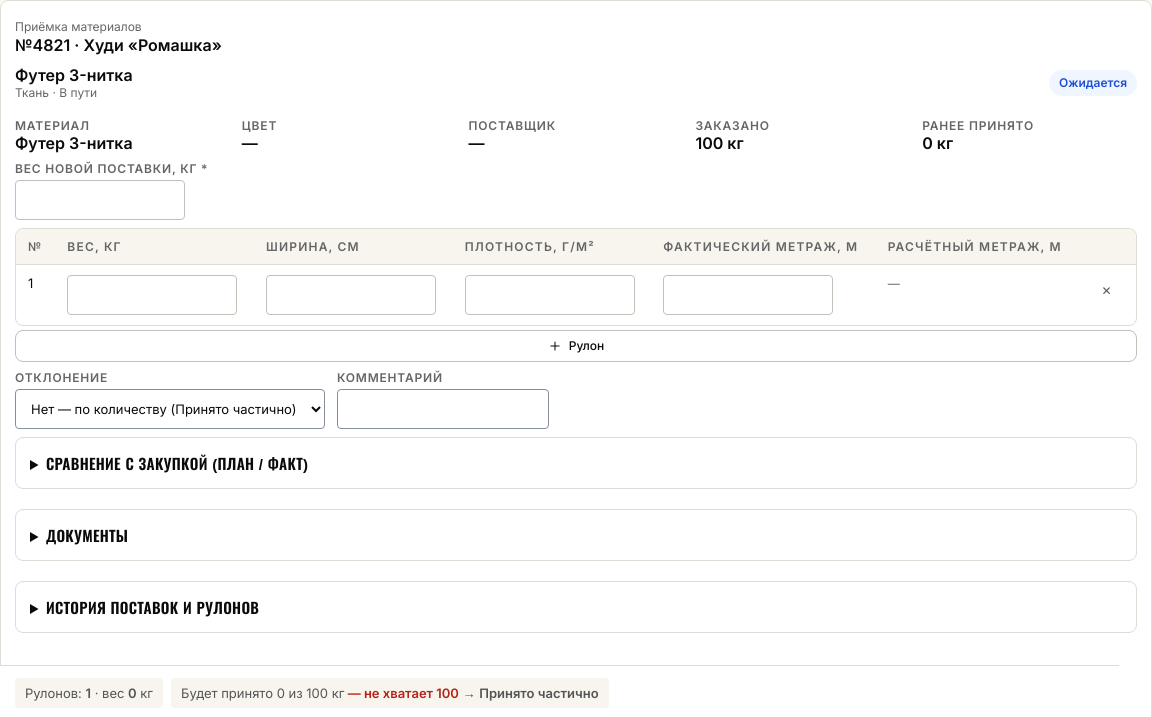
Test: рулоны при приёмке ткани (правка 16.09, п. 5; строками — 05.10, п. 4) › приход в кг без веса рулона не отправляется, причина названа
In the number field named "Сколько пришло сейчас": [100, 200] box [15,180,185,220], type "48.6"
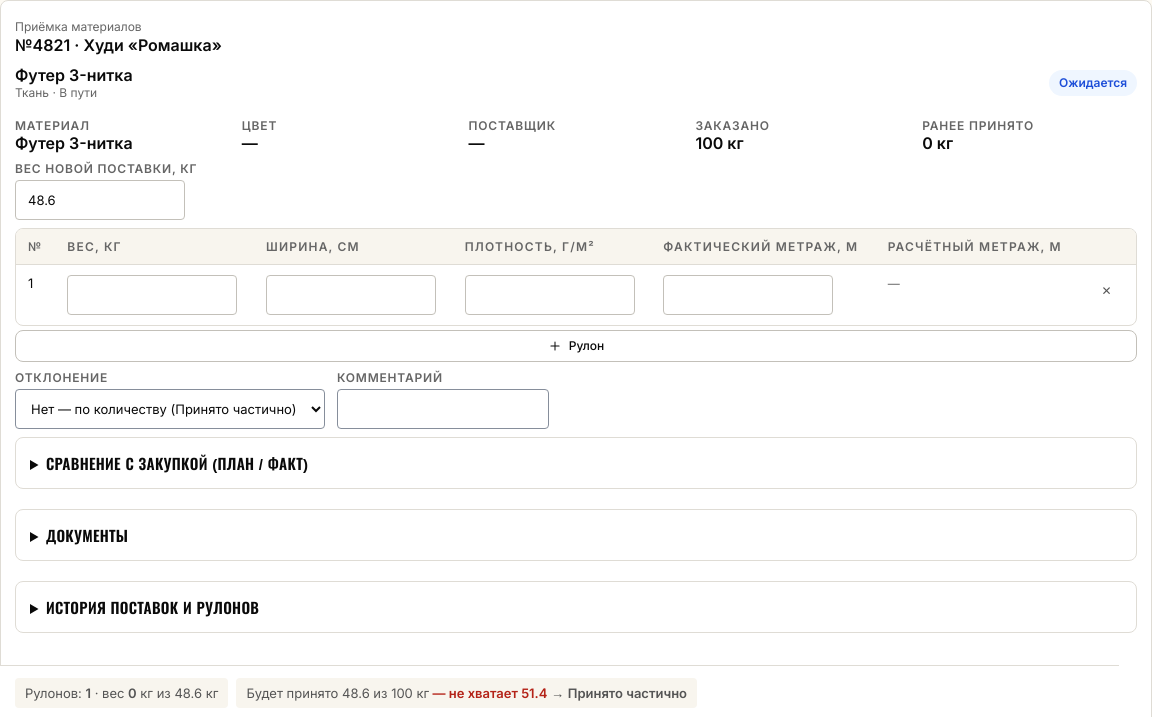
Click the button named "Убрать строку рулона 1": [1107, 291] box [1090,275,1123,307]
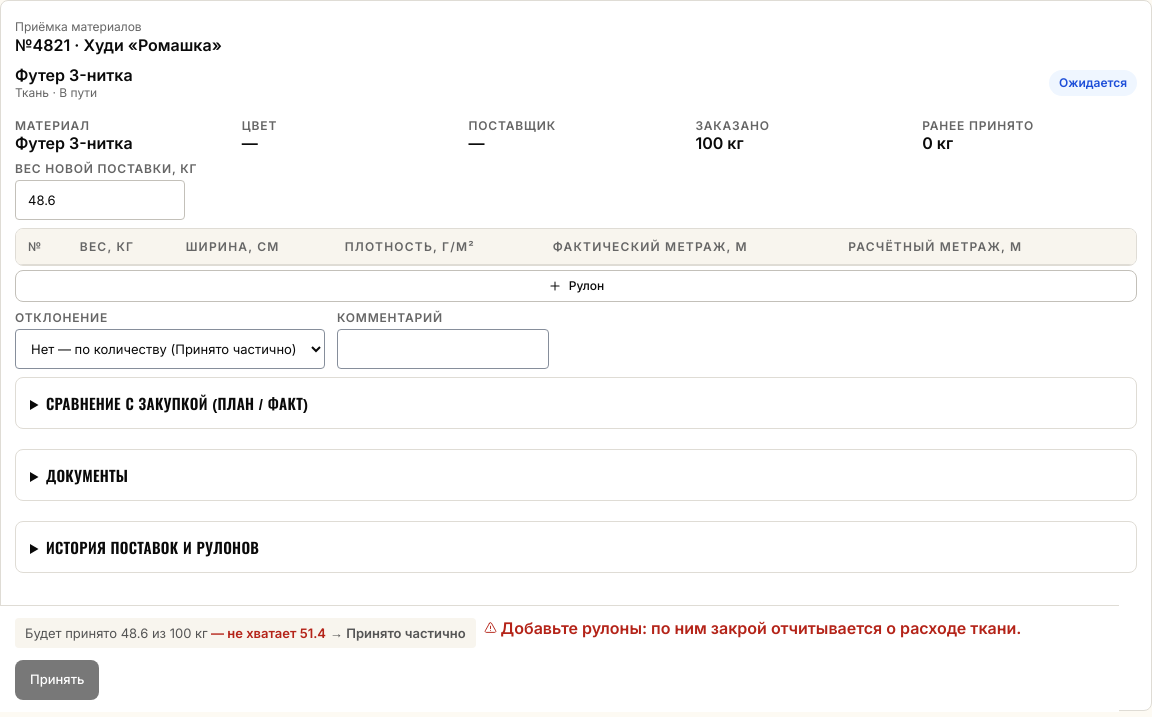
Expected: the text "Добавьте рулоны: по ним закрой отчитывается о расходе ткани." is shown, [484,618,1021,648]
